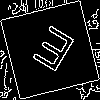E: (25, 25, 78, 81)
